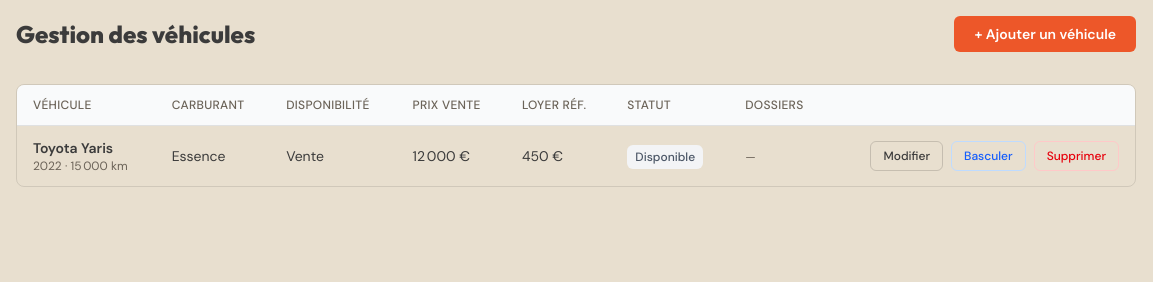
VehicleManagement › Toggle direct (sans modal prix) › affiche une erreur générique si toggle échoue (non-409)
Click the button "Basculer". click: (988, 156)
box: x1=951 y1=141 x2=1026 y2=171
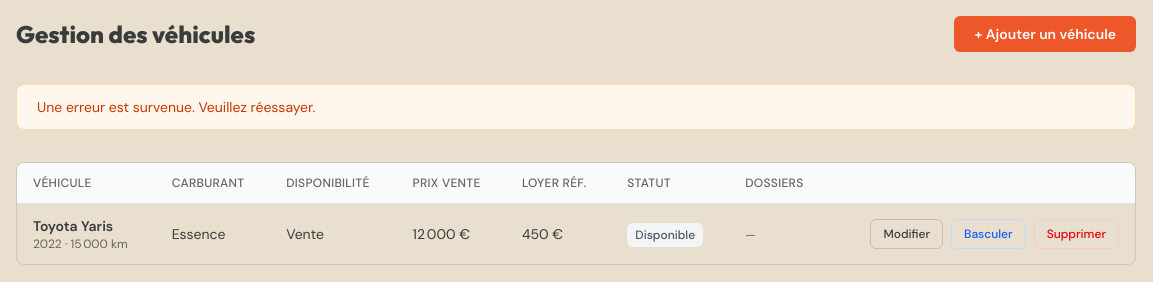
Check: the message "Une erreur est survenue. Veuillez réessayer." is shown, box x1=16 y1=84 x2=1136 y2=130
